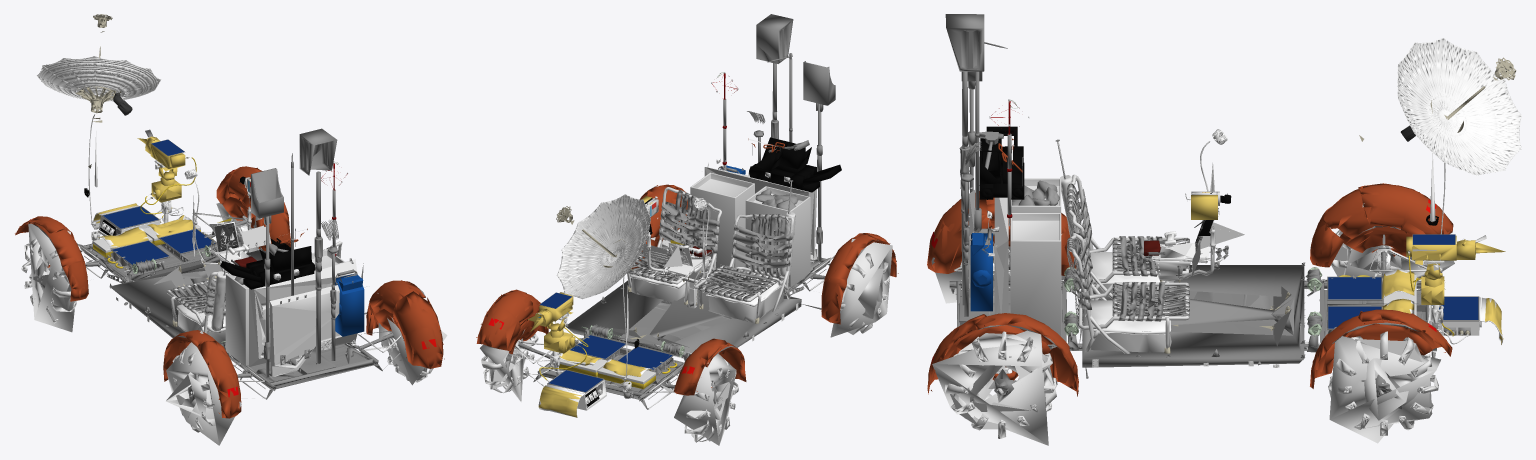
File: lrv.glb
3 renders of one model, left to right at view 1: azimuth 30°, elevation 25°; view 2: azimuth 150°, elevation 25°; view 3: azimuth 270°, elevation 25°, orthographic. The views are drawn at different scales.
Visible parts, largest first — view 1: LRV Static, Wheel - Rear Left, Wheel - Front Left, Wheel - Rear Right; view 2: LRV Static, Wheel - Rear Left, Wheel - Front Left, Wheel - Front Right; view 3: LRV Static, Wheel - Rear Right, Wheel - Front Right, Wheel - Front Left, Wheel - Rear Left.
Part boxes in pixels (x1,y1,x2,y2): LRV Static: [15, 14, 444, 418]; Wheel - Rear Left: [166, 330, 241, 445]; Wheel - Front Left: [21, 223, 76, 332]; Wheel - Rear Right: [377, 293, 447, 385]; LRV Static: [476, 14, 898, 417]; Wheel - Rear Left: [830, 238, 892, 337]; Wheel - Front Left: [674, 353, 738, 445]; Wheel - Front Right: [480, 329, 538, 401]; LRV Static: [927, 14, 1521, 396]; Wheel - Rear Right: [932, 330, 1057, 445]; Wheel - Front Right: [1328, 331, 1440, 443]; Wheel - Front Left: [1331, 203, 1454, 289]; Wheel - Rear Left: [931, 246, 1076, 303].
Bounding box in the file's own units: 2.06 × 2.31 × 3.41.
